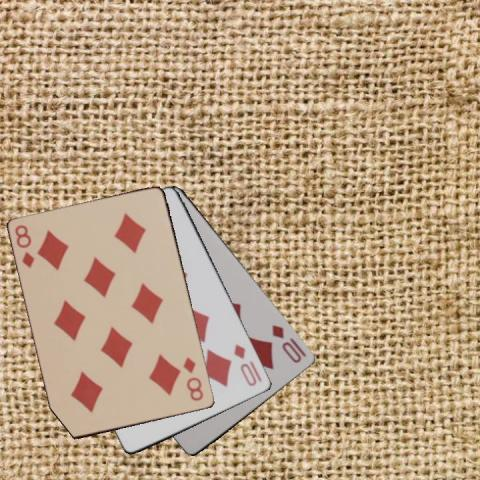10d: (270, 321, 304, 365), (231, 341, 259, 388)
8d: (180, 354, 205, 403), (12, 222, 36, 270)
